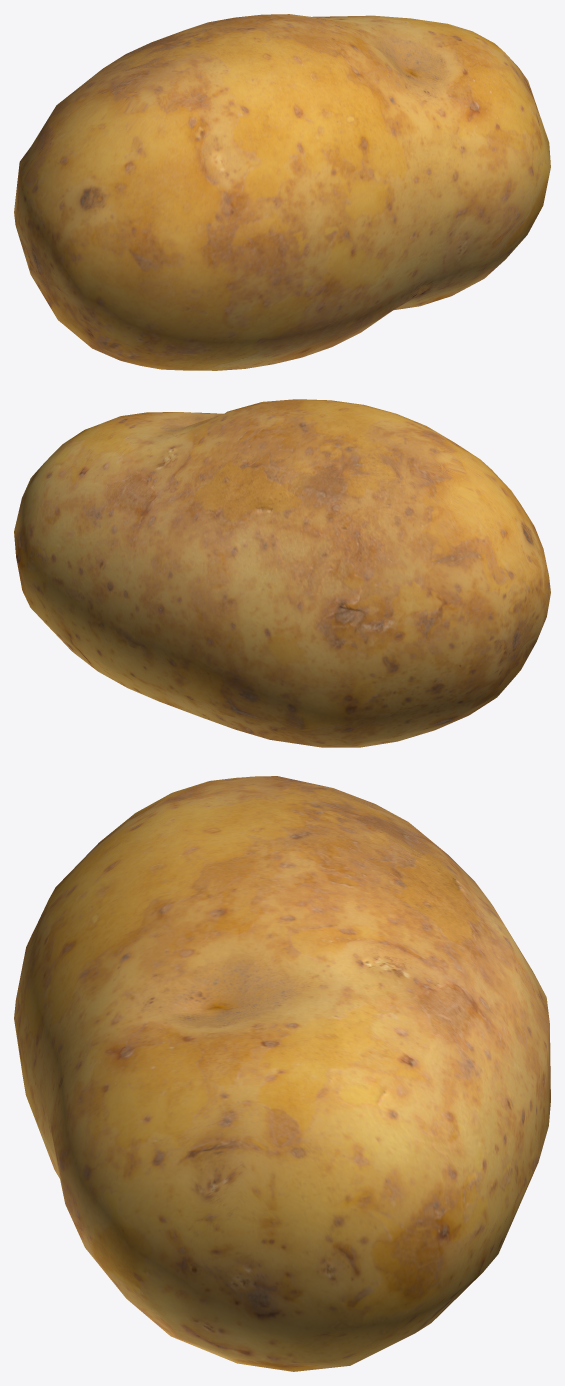
Rendered from Potato.fbx.
3 views of the same model, one above another, from view 1: azimuth 30°, elevation 25°; view 2: azimuth 150°, elevation 25°; view 3: azimuth 270°, elevation 25° (orthographic). The views are drawn at different scales.
Visible parts, largest first — view 1: Patato; view 2: Patato; view 3: Patato.
Boxes of the visible parts, box(x1,y1,x2,y2) form: Patato: box(14, 14, 550, 370); Patato: box(14, 399, 550, 747); Patato: box(14, 776, 550, 1371).
Bounding box in the file's own units: 9.38 × 5.65 × 6.16.
